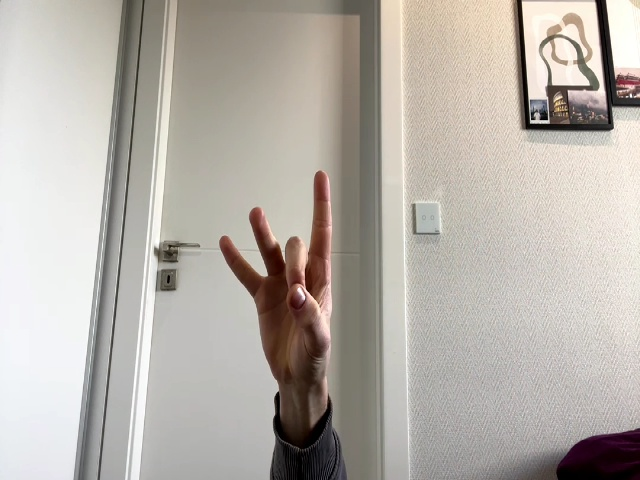G: (219, 170, 333, 374)
